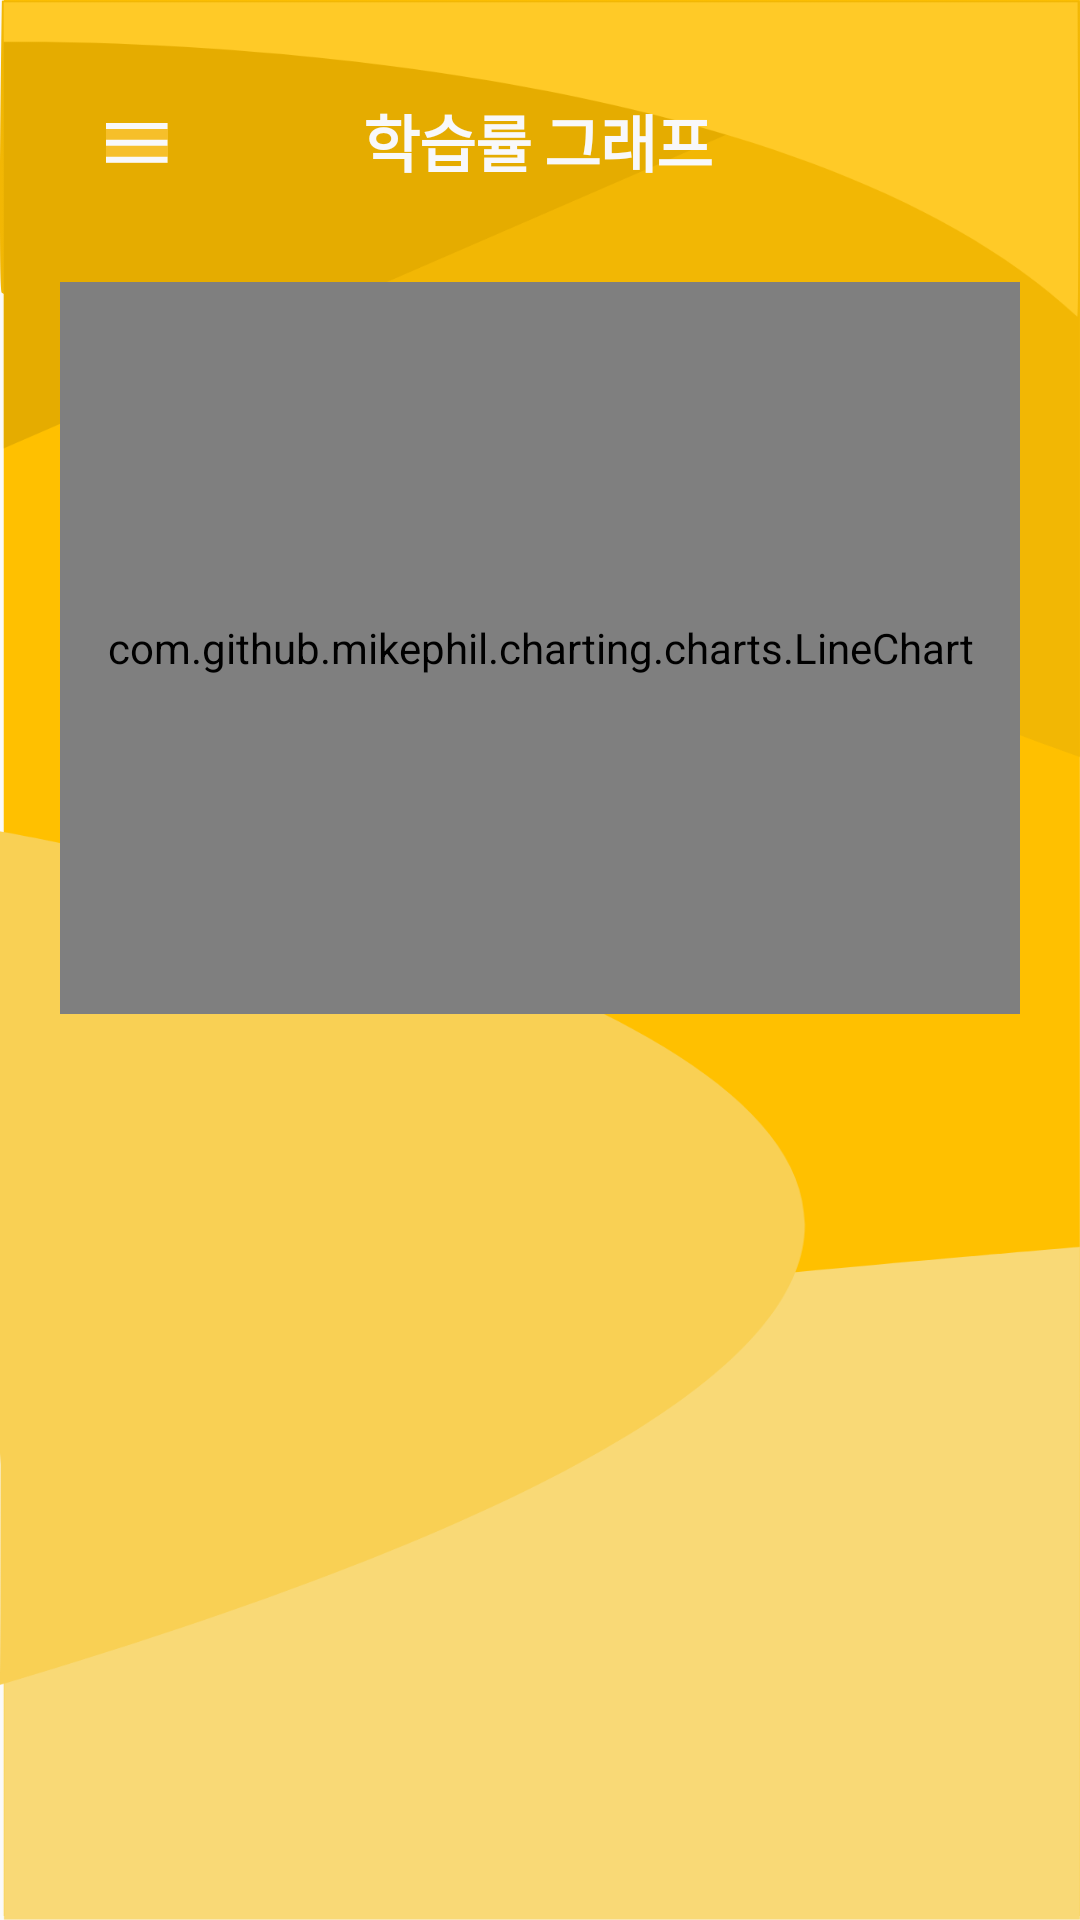

Icons on this 1080 × 1920 Android screen, each with the point to tap as (x=x, y=y):
hamberger: (x=137, y=143)
